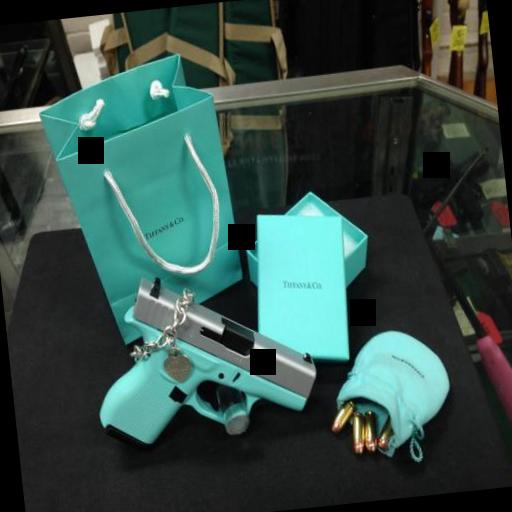Handgun: (84, 263, 322, 460)
